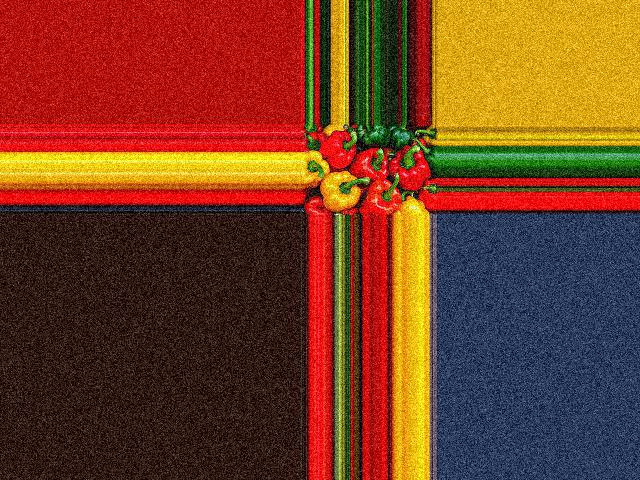bell_pepper: (401, 197, 424, 215)
